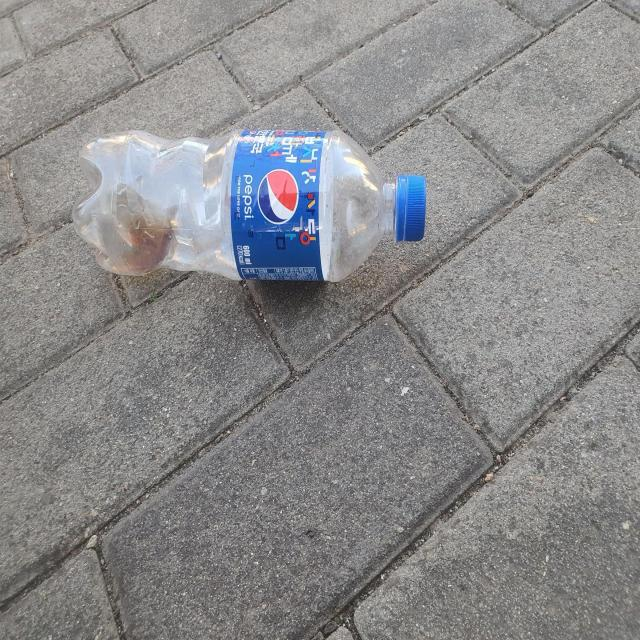plastic: (72, 129, 426, 281)
